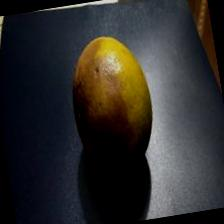Orange Rotten: (56, 20, 174, 186)
